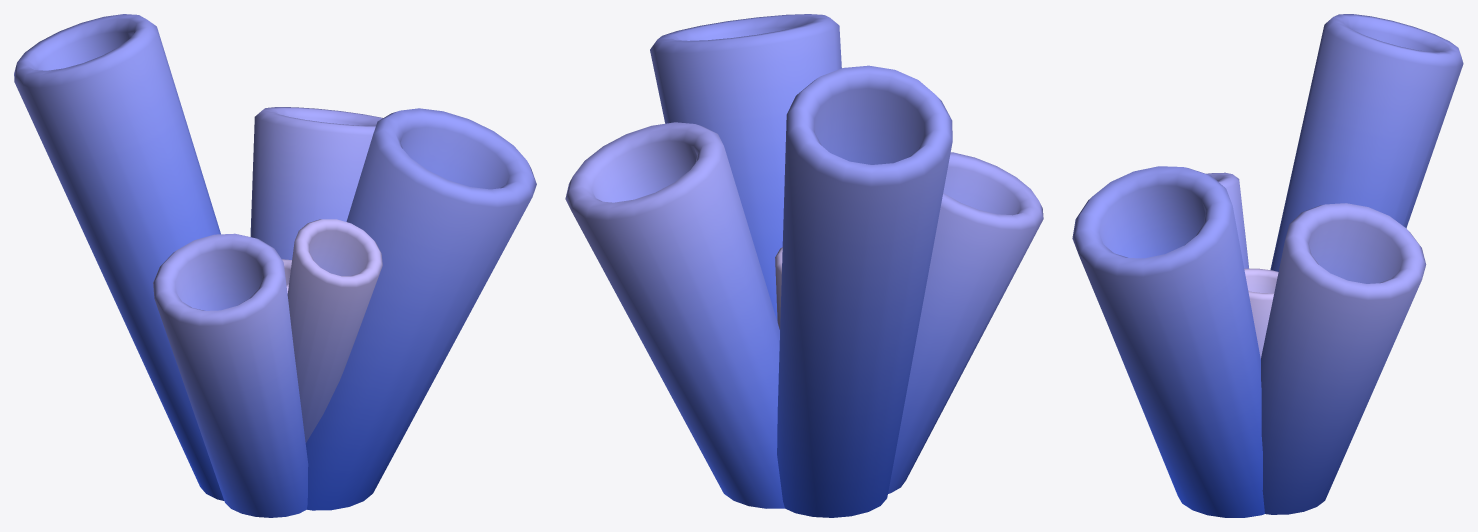
File: Coral_01.fbx
3 views of the same model, side by side, from view 1: azimuth 30°, elevation 25°; view 2: azimuth 150°, elevation 25°; view 3: azimuth 270°, elevation 25° (orthographic). The views are drawn at different scales.
Visible parts, largest first — view 1: Coral_01; view 2: Coral_01; view 3: Coral_01.
Part boxes in pixels (left/top/right/bottom): Coral_01: left=14, top=14, right=536, bottom=517; Coral_01: left=565, top=14, right=1043, bottom=517; Coral_01: left=1072, top=14, right=1463, bottom=517.
Size of the model in its own units: 106 by 117 by 101.
